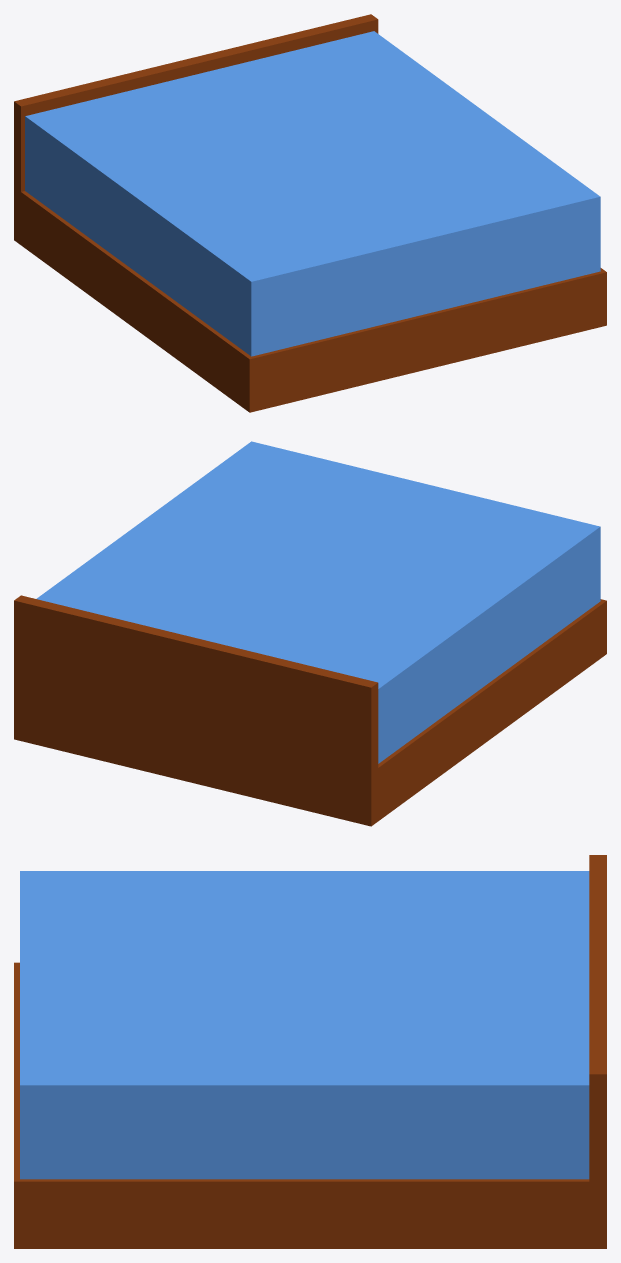
The model's file is bed-double.glb.
3 renders of one model, top to bottom at view 1: azimuth 30°, elevation 25°; view 2: azimuth 150°, elevation 25°; view 3: azimuth 270°, elevation 25°, orthographic. The views are drawn at different scales.
Size of the model in its own units: 1.75 by 0.65 by 2.
